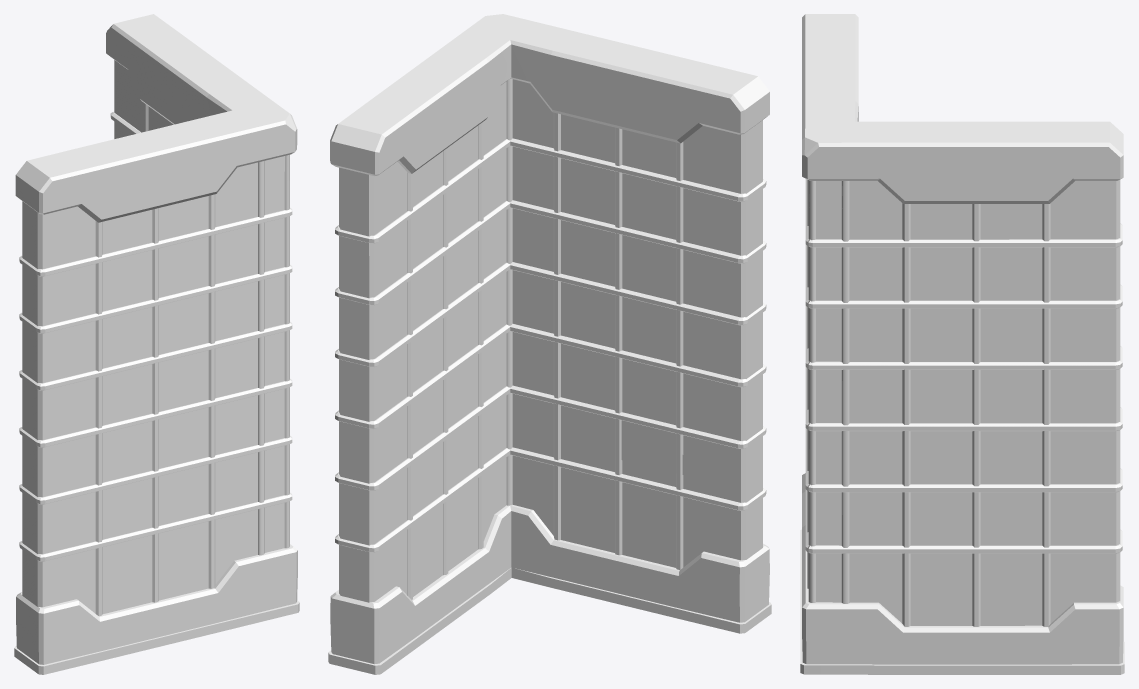
The model's file is CamoBarrier90CornerVisual.glb.
3 views of the same model, side by side, from view 1: azimuth 30°, elevation 25°; view 2: azimuth 150°, elevation 25°; view 3: azimuth 270°, elevation 25° (orthographic). The views are drawn at different scales.
Visible parts, largest first — view 1: BarrierHologram1; view 2: BarrierHologram1; view 3: BarrierHologram1.
Part boxes in pixels (left/top/right/bottom): BarrierHologram1: left=14, top=14, right=299, bottom=674; BarrierHologram1: left=328, top=14, right=771, bottom=674; BarrierHologram1: left=800, top=14, right=1124, bottom=674.
Bounding box in the file's own units: 1.12 × 2.02 × 1.12.
Materials: 3 (2 with a texture image).
